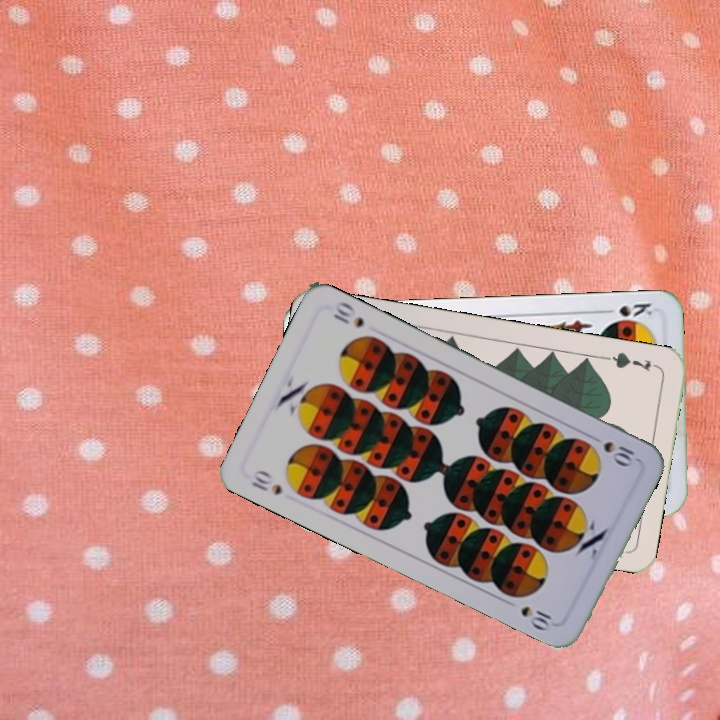G7: (602, 348, 661, 374)
S10: (599, 437, 637, 469), (247, 466, 285, 498)
SK: (598, 299, 655, 320)
